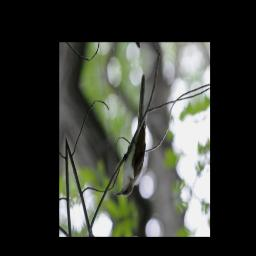Cuckoo: (100, 71, 163, 203)
